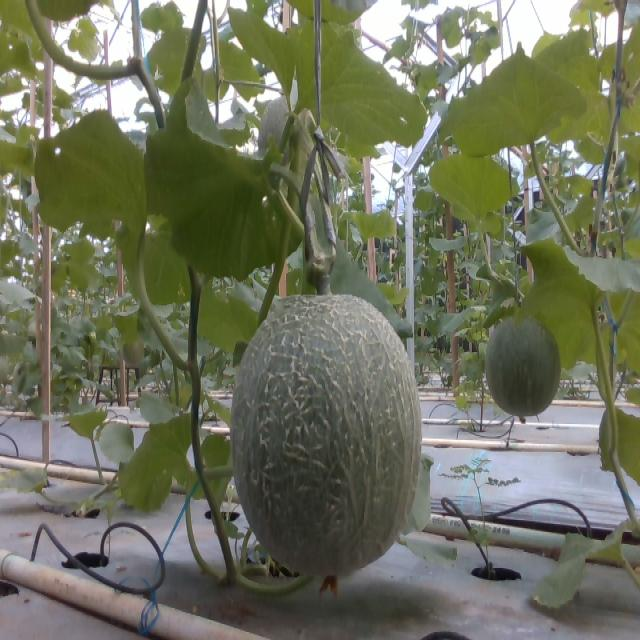melon: (232, 296, 422, 577)
